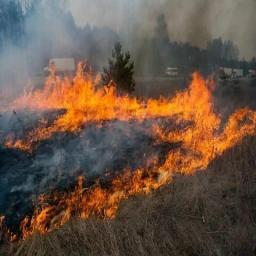Low smoke: (10, 1, 255, 59)
Medium fire: (8, 63, 215, 111)
Small fire: (162, 104, 256, 165), (21, 186, 117, 231), (105, 160, 207, 192), (1, 116, 90, 152)
